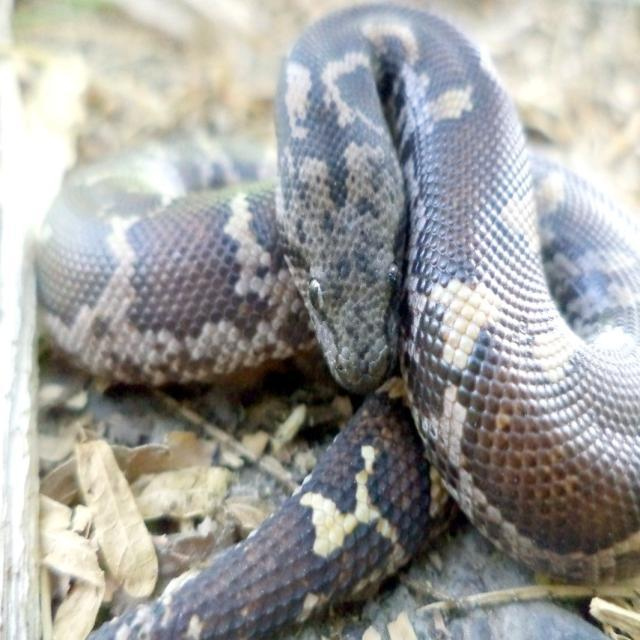Snake: (32, 0, 639, 638)
